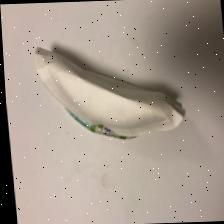paper: (29, 25, 191, 164)
